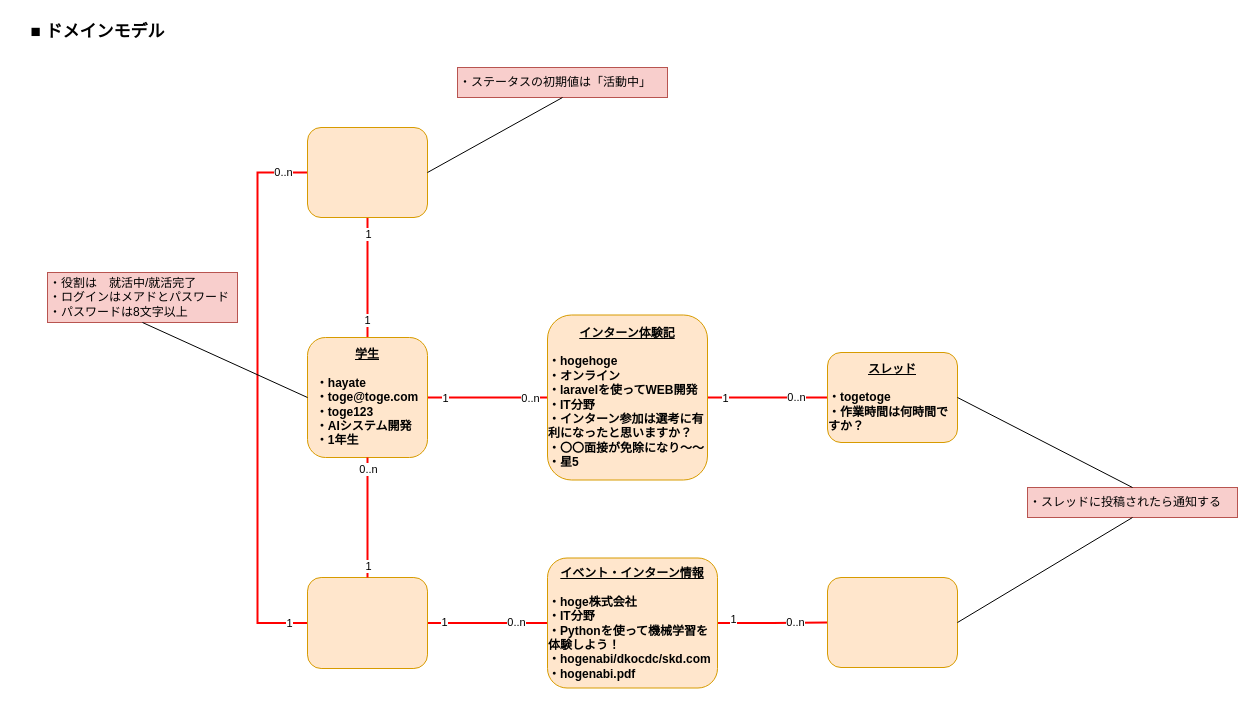
The diagram is 1255 pixels wide and 705 high, and some of its shapes have lost their labels. Here are the shapes that lost their labels. From the top down, the centre of each, then its label:
At (x=367, y=172): "学生ステータス ・1 ・活動中".
At (x=367, y=622): "職員 ・aiueo ・aiueo@aiueo.com ・aiueo123".
At (x=892, y=622): "スレッド ・hoge ・情報提供ありがとうございます。".
